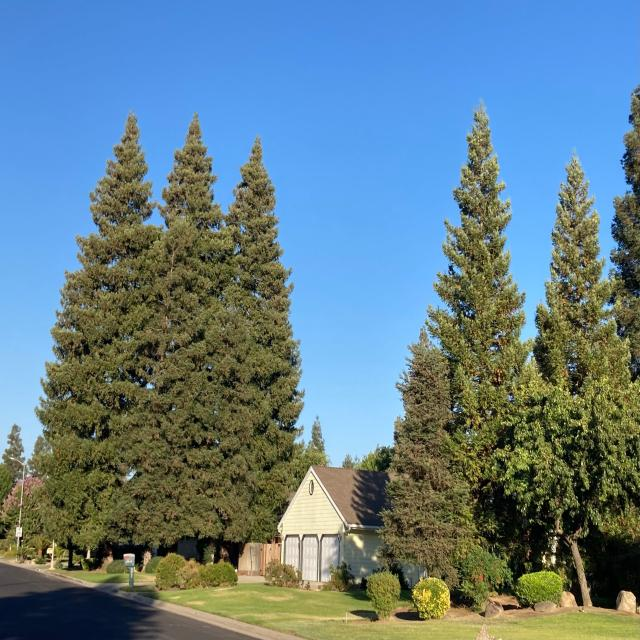Sequoia sempervirens: (35, 122, 158, 586), (134, 120, 235, 547), (222, 129, 311, 490), (432, 94, 530, 366), (388, 331, 462, 571), (536, 161, 614, 357)
